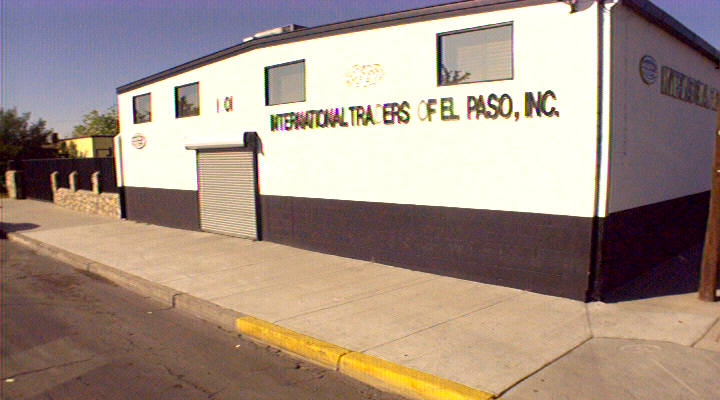Ramp: (461, 332, 720, 400)
